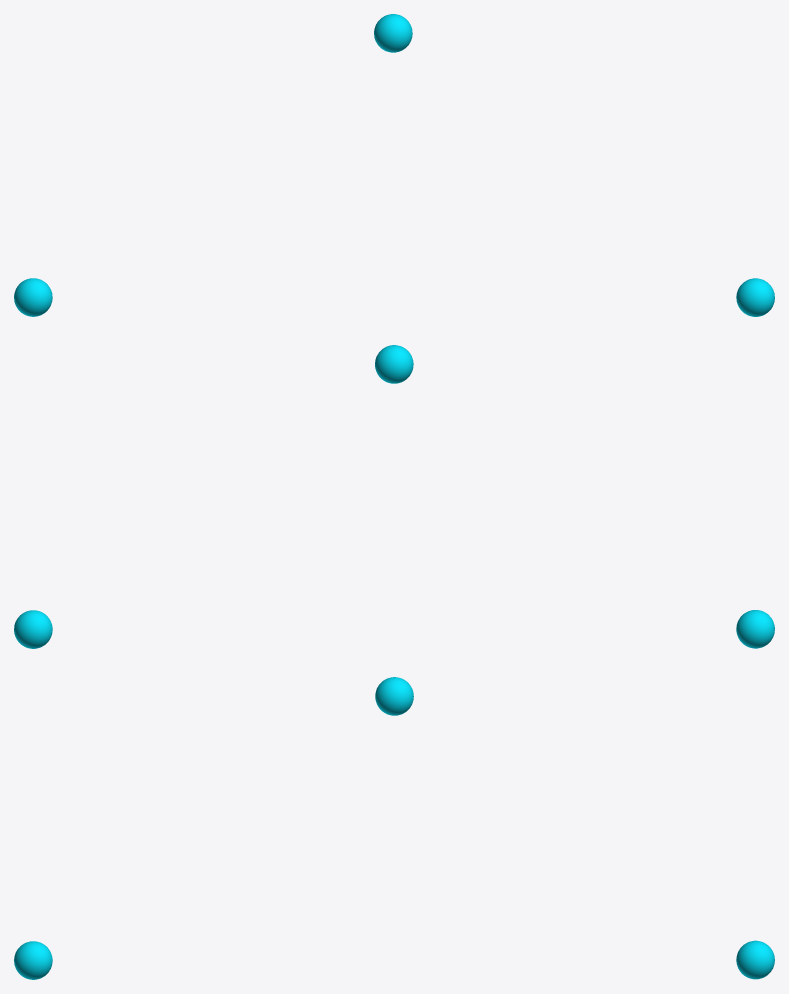
The picture shows the model from 3 angles, top to bottom: view 1: azimuth 30°, elevation 25°; view 2: azimuth 150°, elevation 25°; view 3: azimuth 270°, elevation 25°; orthographic projection.
Visible parts, largest first — view 1: Sphere050; view 2: Sphere050; view 3: Sphere050.
Part boxes in pixels (box(x1,y1,x2,y2)): Sphere050: box(14, 14, 774, 316); Sphere050: box(14, 345, 774, 648); Sphere050: box(14, 677, 774, 979).
Size of the model in its own units: 141 by 8.22 by 162.
